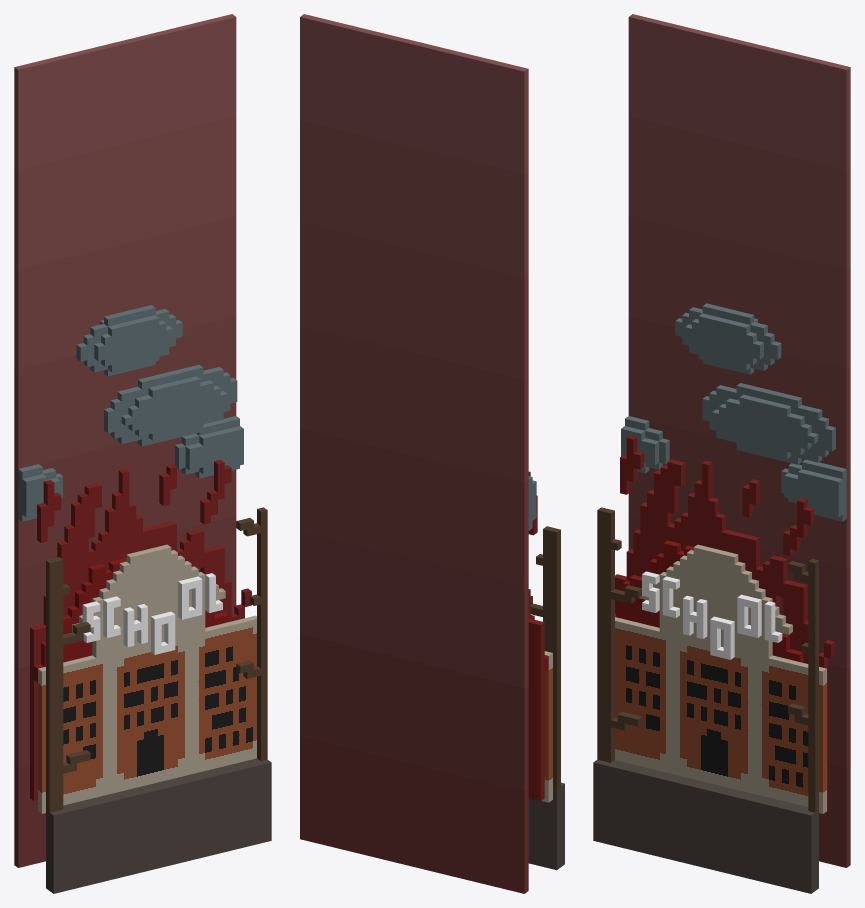
File: scene_school_burned.glb
3 views of the same model, side by side, from view 1: azimuth 30°, elevation 25°; view 2: azimuth 150°, elevation 25°; view 3: azimuth 330°, elevation 25° (orthographic). The views are drawn at different scales.
Parts seen in each view (by area): view 1: scene_school_burned_106, scene_school_burned_105, scene_school_burned_104, scene_school_burned_103, scene_school_burned_102, scene_school_burned_101; view 2: scene_school_burned_106, scene_school_burned_104, scene_school_burned_102, scene_school_burned_105; view 3: scene_school_burned_106, scene_school_burned_105, scene_school_burned_104, scene_school_burned_103, scene_school_burned_102, scene_school_burned_101.
Part boxes in pixels (x1,y1,x2,y2): scene_school_burned_106: (14, 14, 236, 867); scene_school_burned_105: (38, 544, 256, 813); scene_school_burned_104: (46, 507, 271, 893); scene_school_burned_103: (18, 305, 243, 521); scene_school_burned_102: (30, 459, 251, 800); scene_school_burned_101: (34, 558, 228, 682); scene_school_burned_106: (300, 14, 528, 893); scene_school_burned_104: (528, 526, 564, 870); scene_school_burned_102: (528, 471, 544, 801); scene_school_burned_105: (541, 651, 552, 802); scene_school_burned_106: (628, 14, 850, 867); scene_school_burned_105: (615, 544, 826, 813); scene_school_burned_104: (593, 507, 818, 893); scene_school_burned_103: (621, 303, 846, 521); scene_school_burned_102: (615, 435, 834, 813); scene_school_burned_101: (615, 540, 803, 662).
Bounding box in the file's own units: 3.2 × 11.2 × 1.
1 material, 1 textured.
